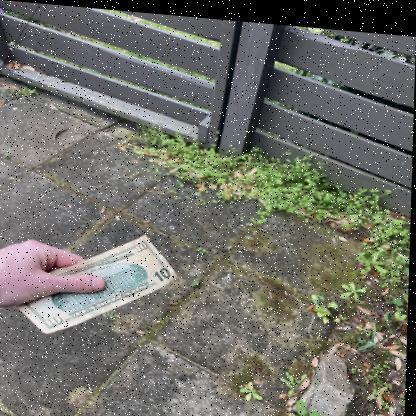dollar_back: (5, 231, 183, 336)
